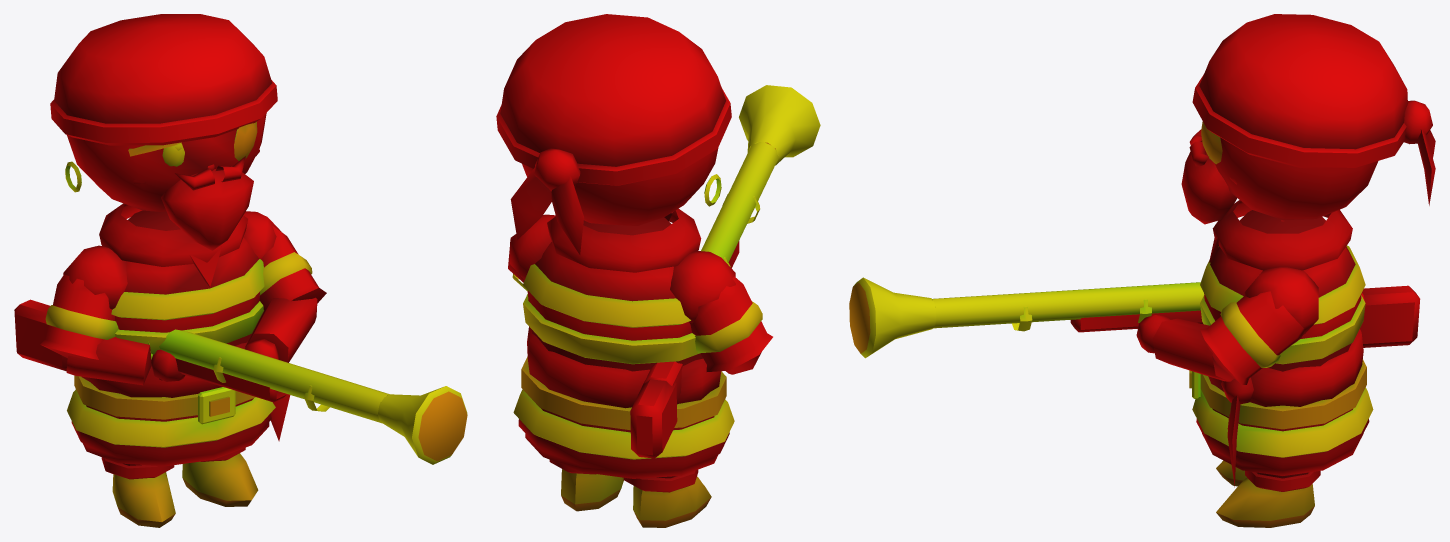
The model's file is PirateBlunderbuss.glb.
3 views of the same model, side by side, from view 1: azimuth 30°, elevation 25°; view 2: azimuth 150°, elevation 25°; view 3: azimuth 270°, elevation 25° (orthographic). The views are drawn at different scales.
Visible parts, largest first — view 1: PirateBlunderbuss; view 2: PirateBlunderbuss; view 3: PirateBlunderbuss.
Boxes of the visible parts, box(x1,y1,x2,y2) form: PirateBlunderbuss: box(14, 14, 467, 527); PirateBlunderbuss: box(496, 14, 820, 527); PirateBlunderbuss: box(849, 14, 1435, 527).
Bounding box in the file's own units: 0.4728 × 0.8097 × 0.9337.
